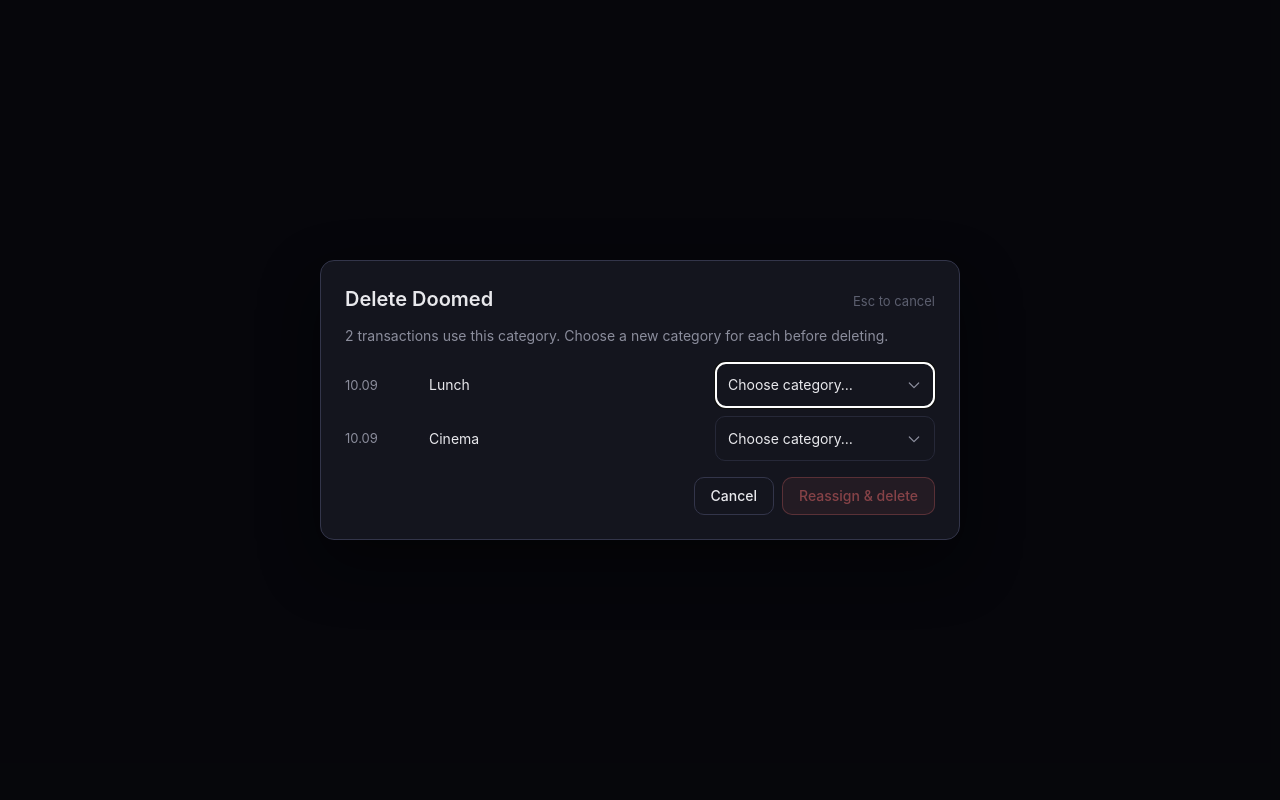
Test: CategoryReassignDialog › lists every transaction and excludes the deleted category from the options
Expected: the text "Lunch" is shown, [429,376,470,393]
Expected: the text "Cinema" is shown, [429,430,479,447]
Click the button "Choose category…" in the row of "Lunch": (825, 385) [715,362,935,408]
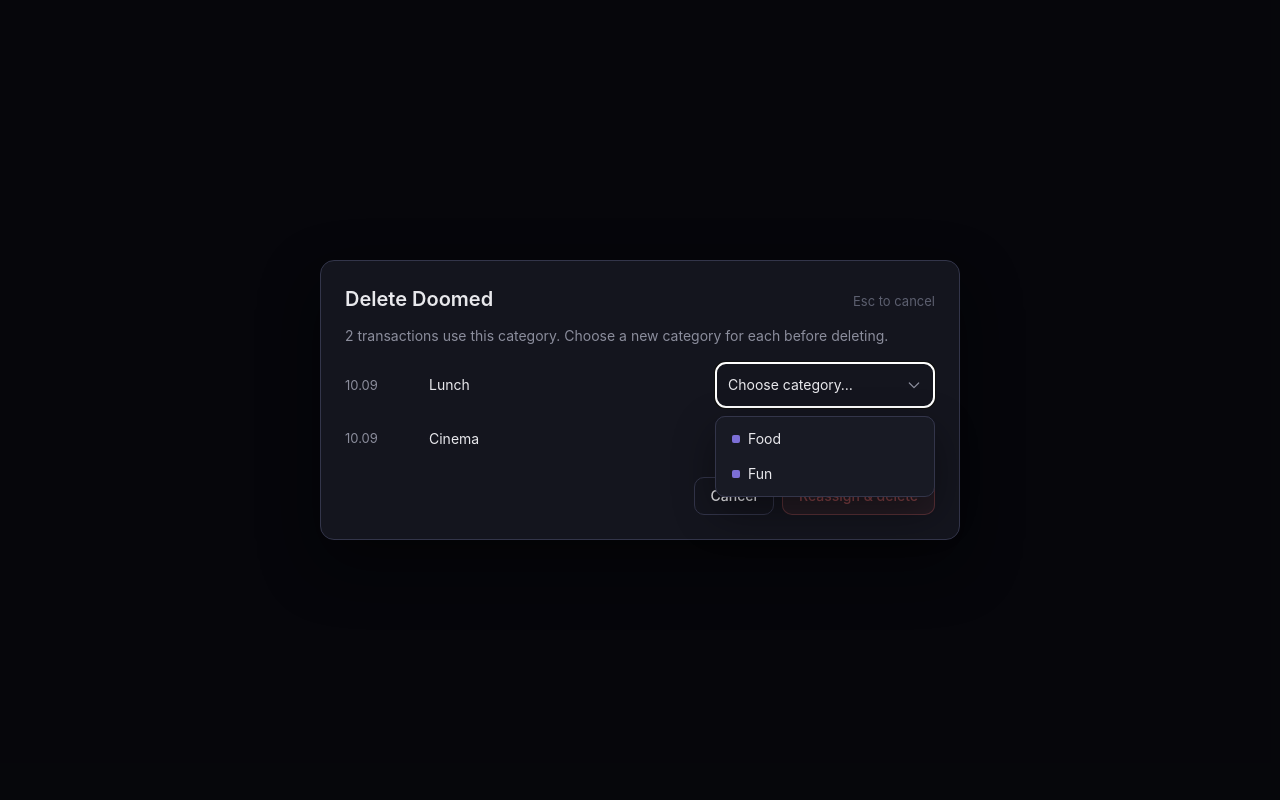
Now the option "Food" is shown, box [720,421,930,456]
